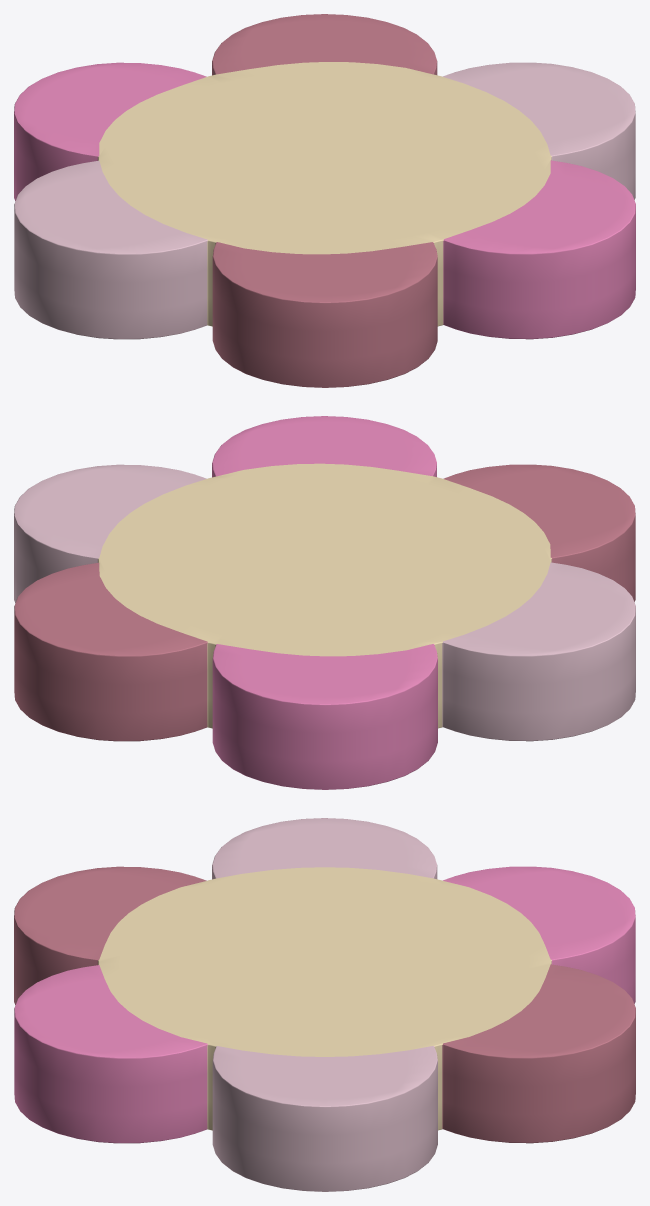
Rendered from blomst.glb.
3 views of the same model, one above another, from view 1: azimuth 30°, elevation 25°; view 2: azimuth 150°, elevation 25°; view 3: azimuth 270°, elevation 25° (orthographic).
Parts seen in each view (by area): view 1: Circle; view 2: Circle; view 3: Circle.
Boxes of the visible parts, bbox=[...] form: Circle: bbox=[14, 14, 635, 387]; Circle: bbox=[14, 416, 635, 789]; Circle: bbox=[14, 818, 635, 1191].
Size of the model in its own units: 3.38 by 0.4676 by 3.08.
